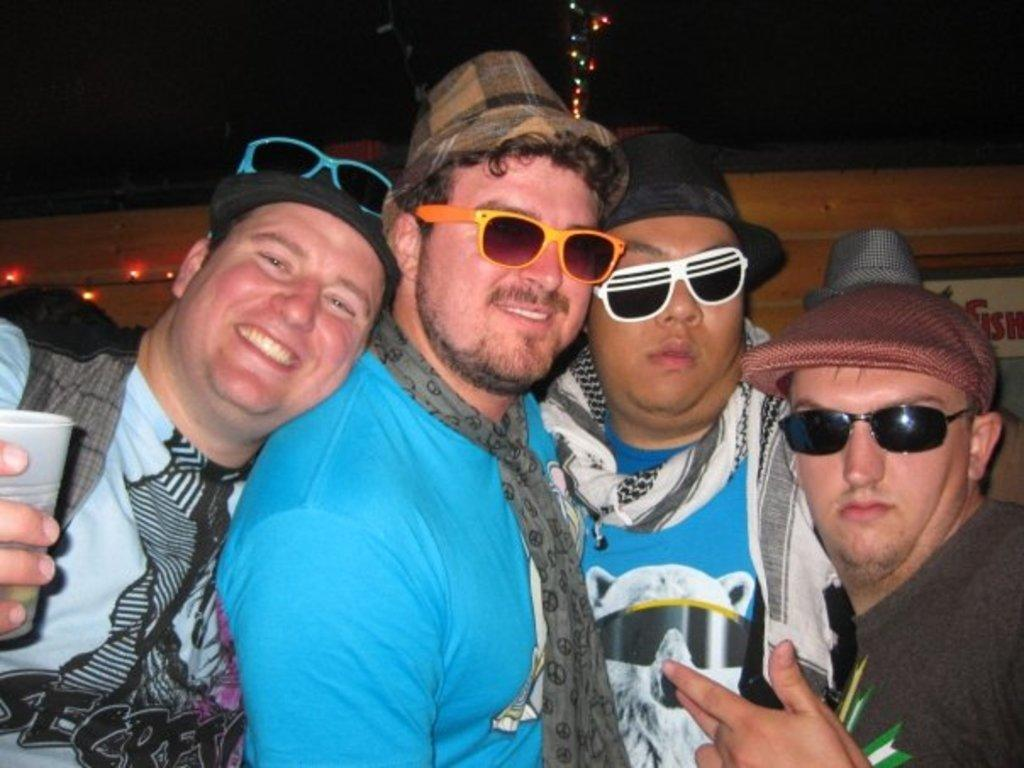Hat: (380, 49, 630, 227), (736, 284, 998, 412), (600, 130, 792, 296), (213, 168, 396, 310), (804, 226, 924, 310)
